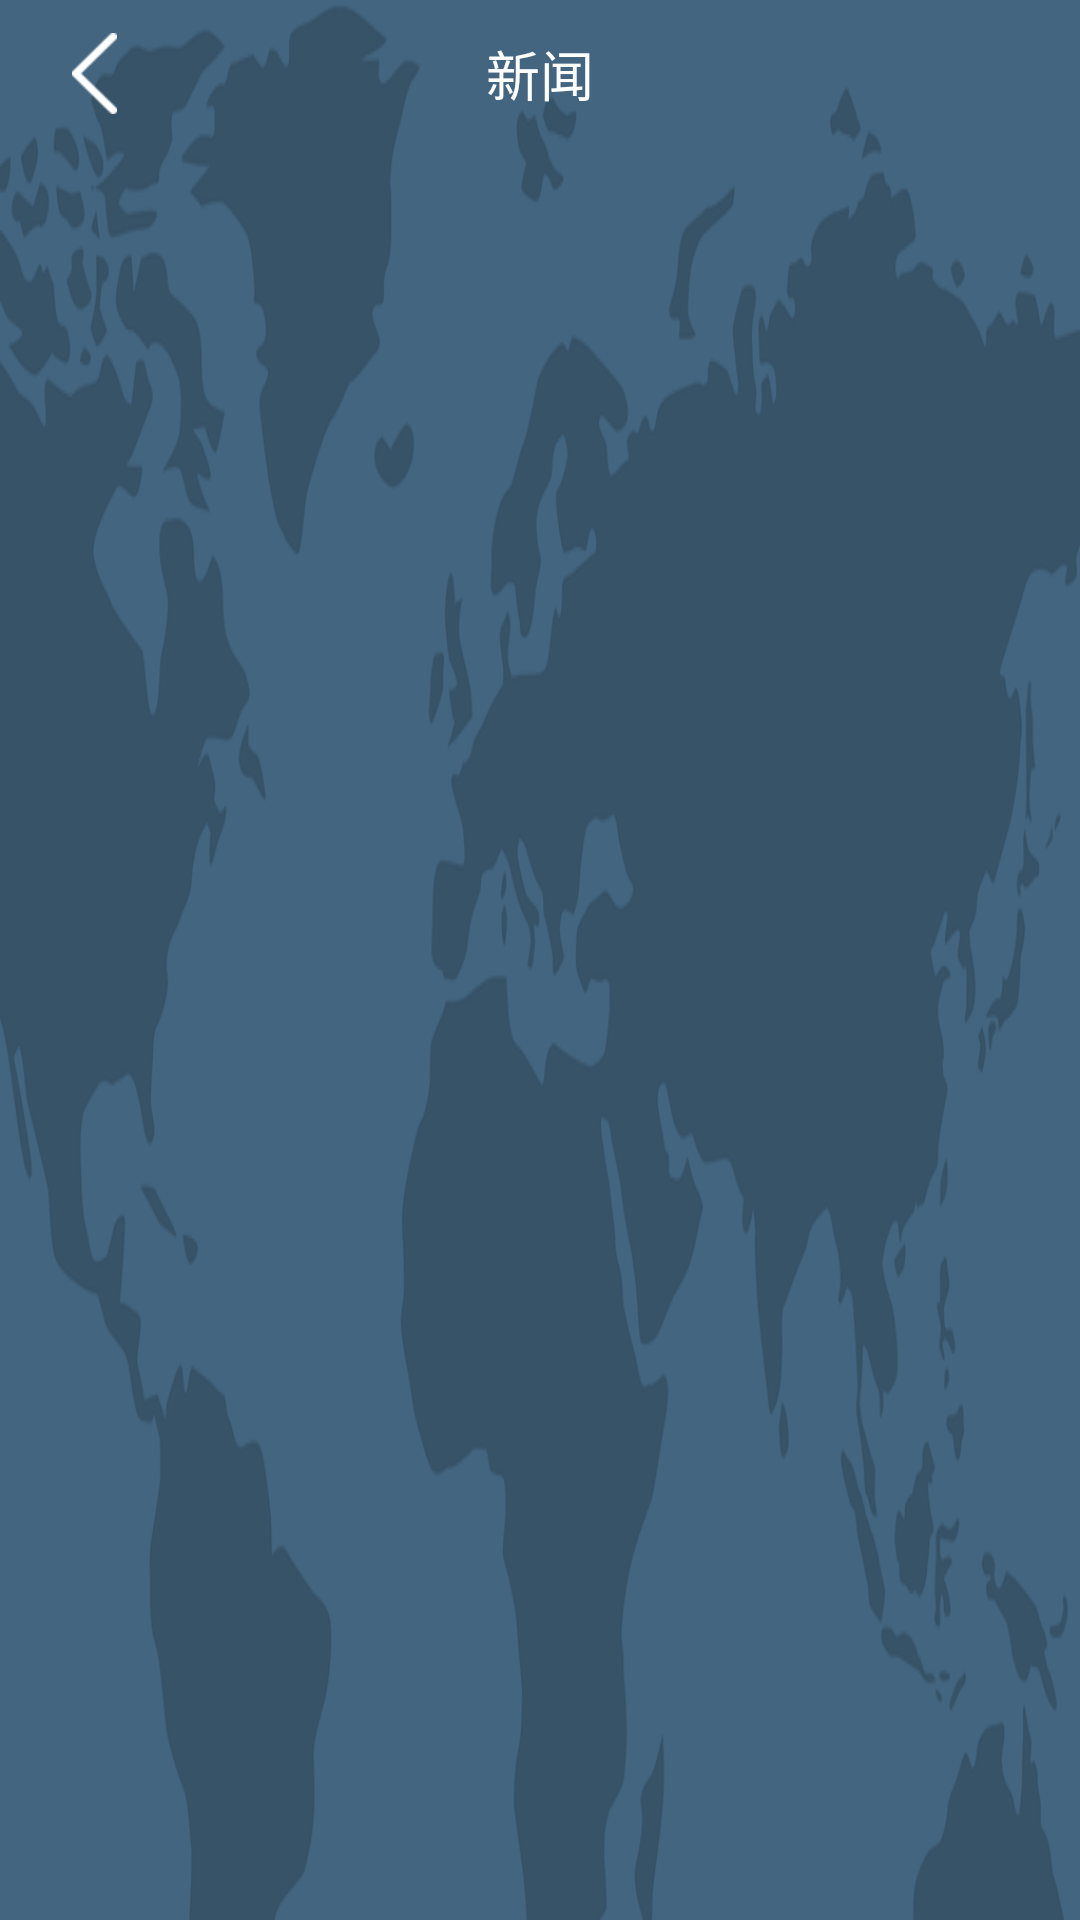

Icons on this 1080px x 1920px Android screen, each with the point to tap as (x=x, y=y):
soundai back: (x=94, y=73)
